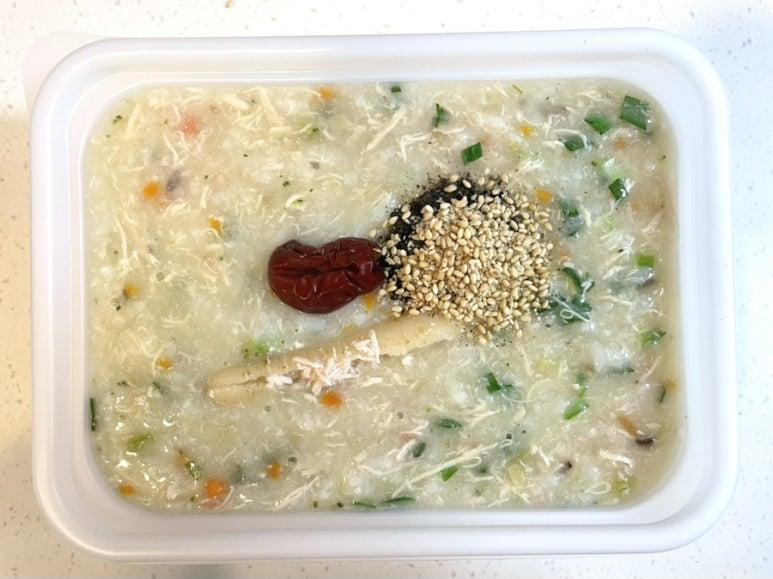Lunch Box: (22, 29, 736, 563)
